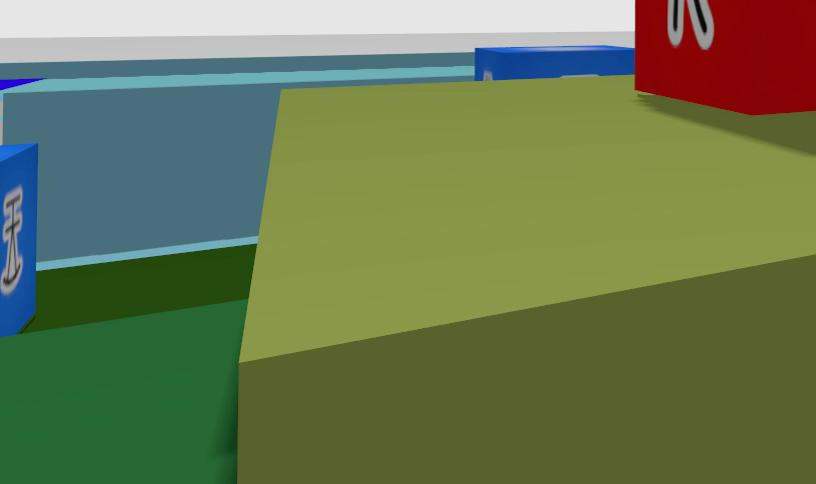KFS_FAKE: (634, 0, 816, 114), (666, 0, 714, 49)
KFS_REAL: (0, 144, 38, 336), (474, 46, 633, 80)
